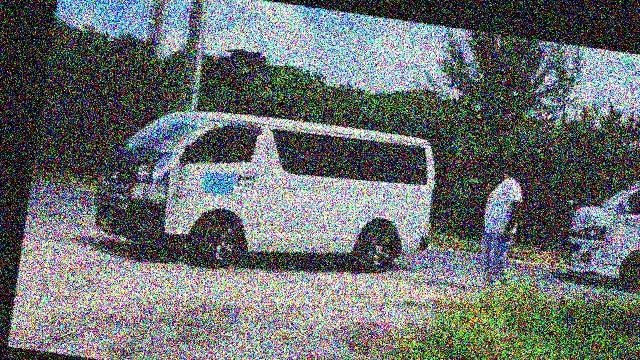van: (82, 87, 440, 292)
